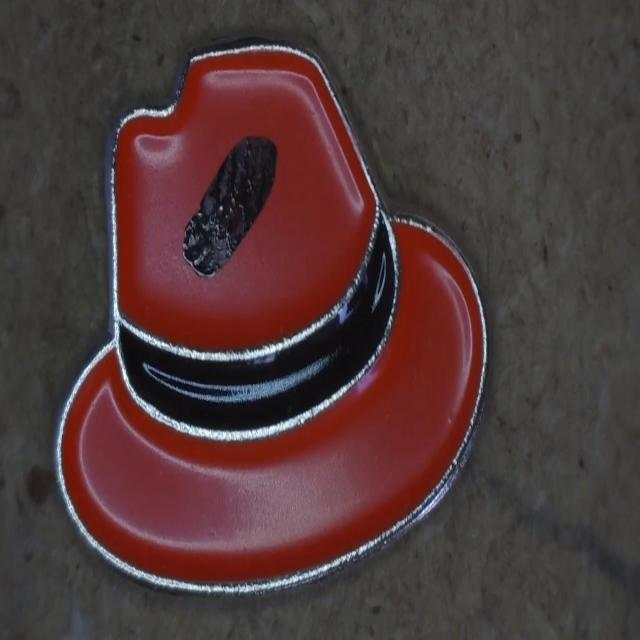Hatband: (119, 211, 399, 438)
Paint_Leak: (182, 136, 278, 276)
RedHatPin: (58, 44, 486, 591)
